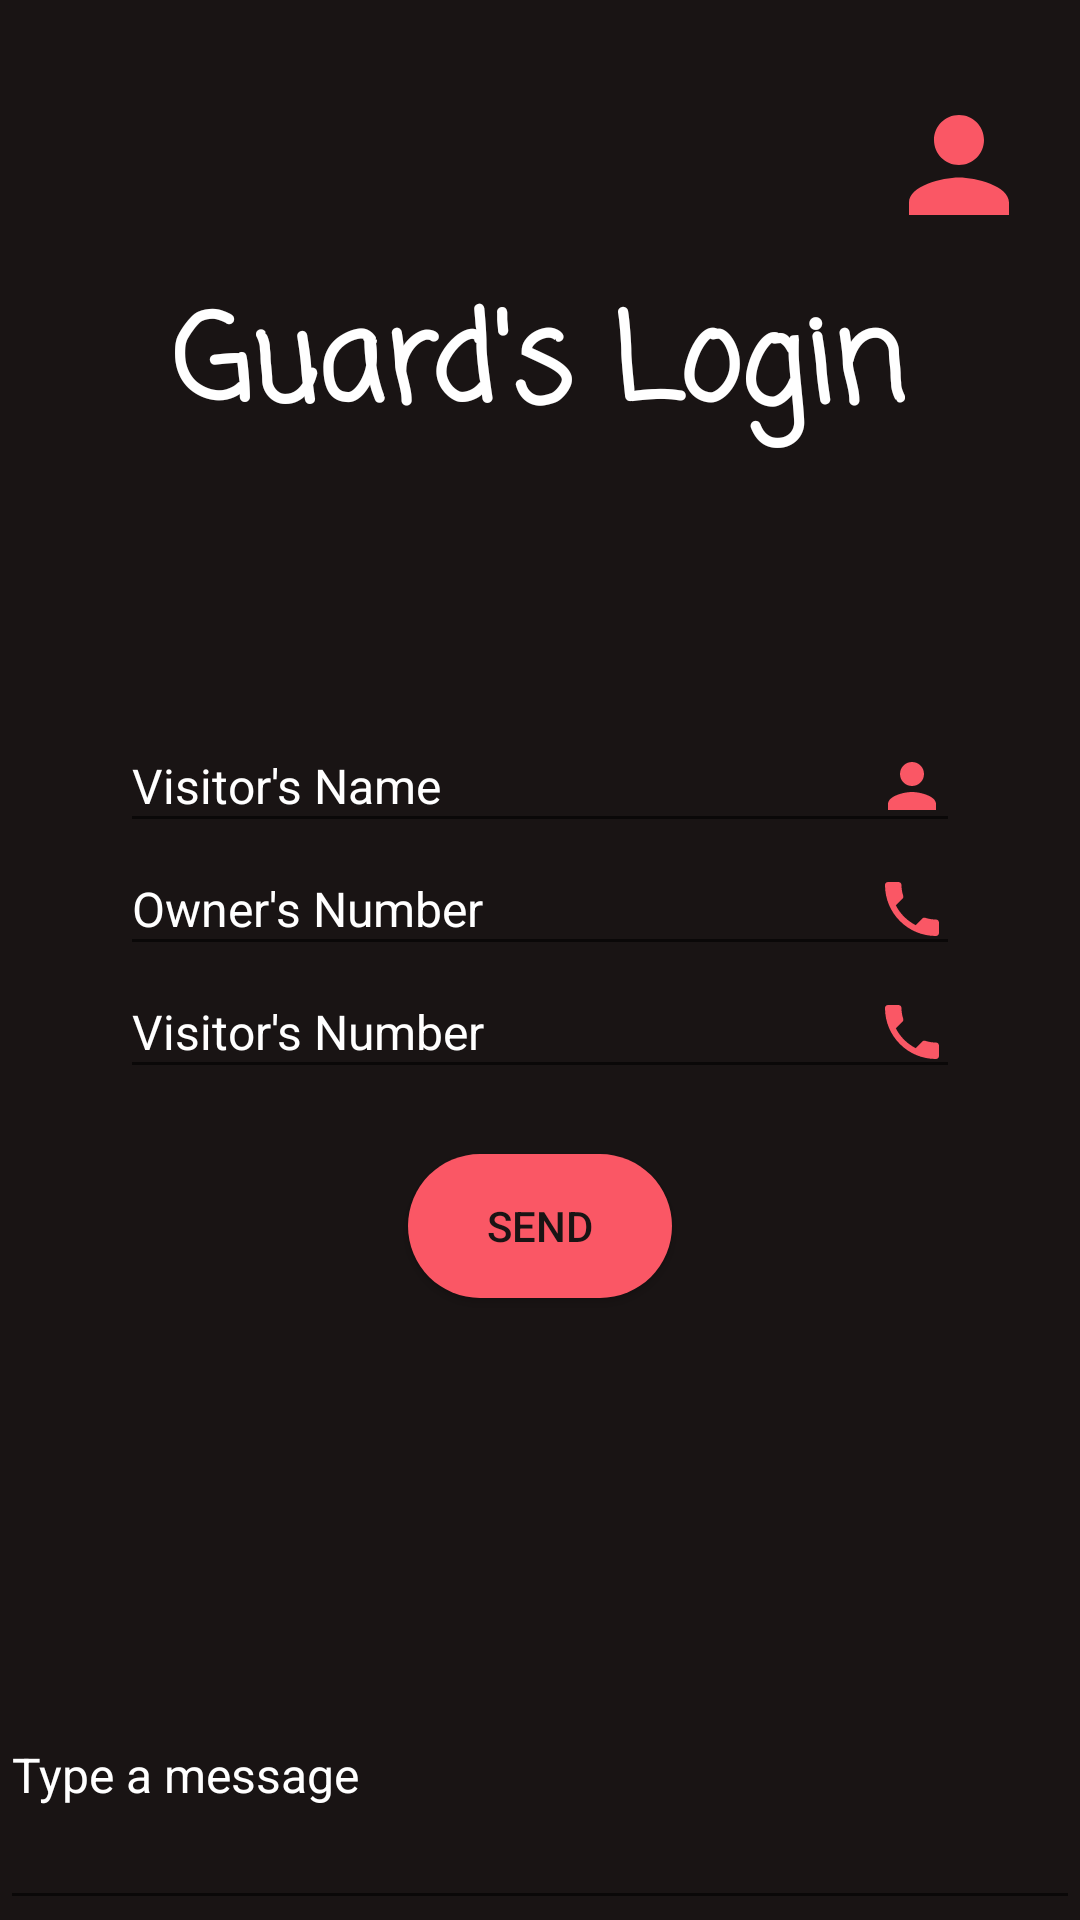

Icons on this 1080 × 1920 Android screen, each with the point to tap as (x,y):
perm identity: (959,165)
